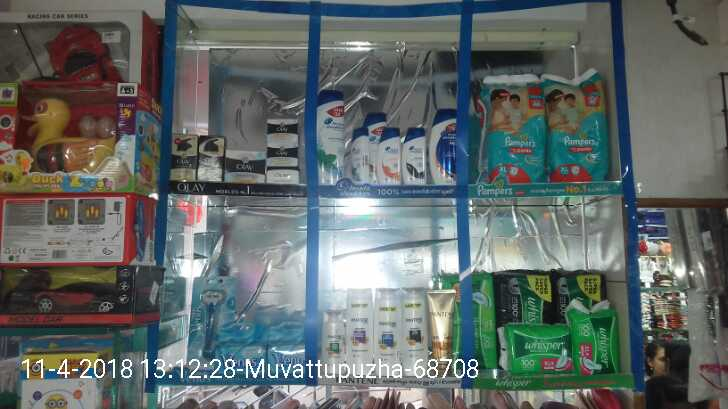venus: (191, 279, 219, 359), (223, 320, 267, 369), (267, 320, 306, 369)
